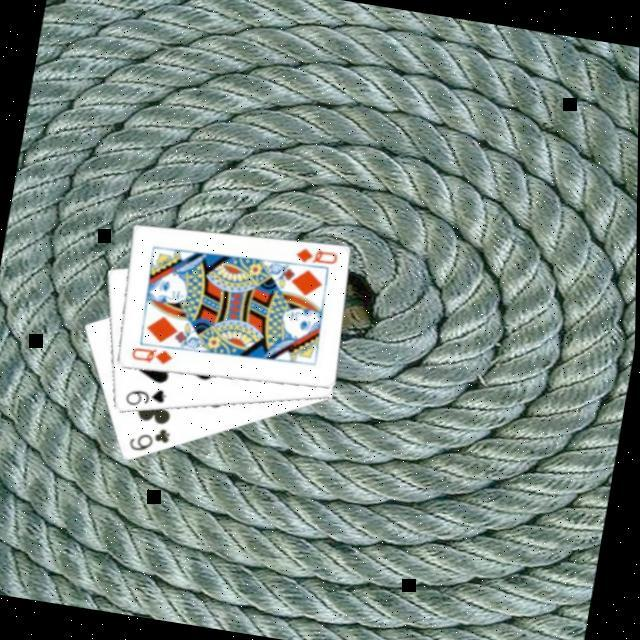6C: (127, 418, 178, 458)
9S: (124, 380, 174, 413)
QD: (294, 240, 345, 269), (130, 340, 179, 369)
